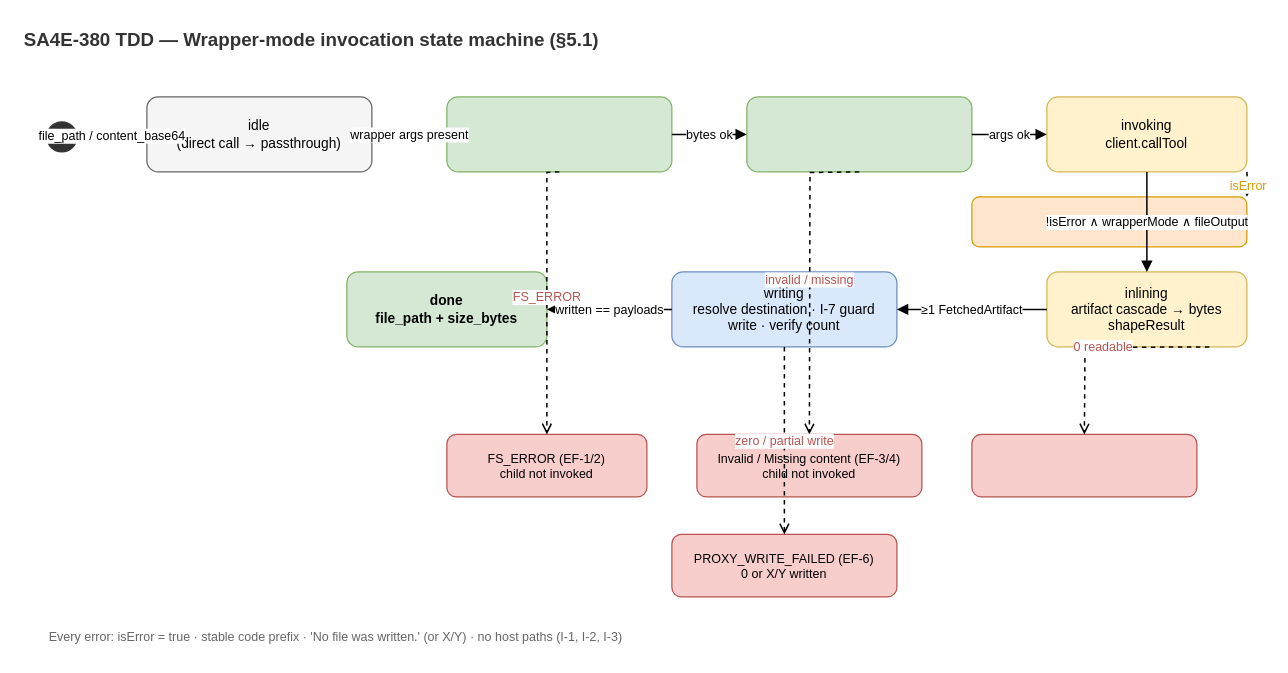
Some shapes in this 1288 by 673 pixel diagram are drawn without their labels. The shapes that lost their labels are listed below. From the top down, each one's centre as x and y in pixels, then its label:
At point (559, 134): "reading resolve + symlink guard read ≤ 25 MB".
At point (859, 134): "adapting decode base64 → content arg strip wrapper-only keys".
At point (1109, 221): "child error → pass-through untouched (BR-18)".
At point (1084, 465): "ARTIFACT_FETCH_FAILED (EF-5) 0 files written".
